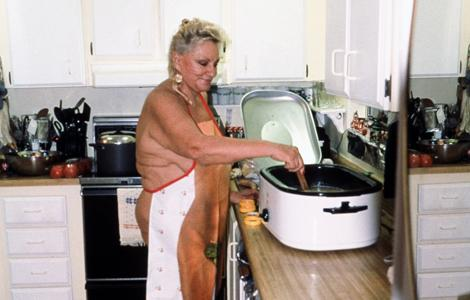person: (136, 20, 306, 300)
